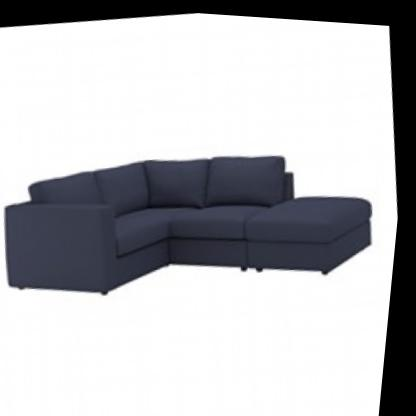Sofa: (0, 82, 403, 342)
